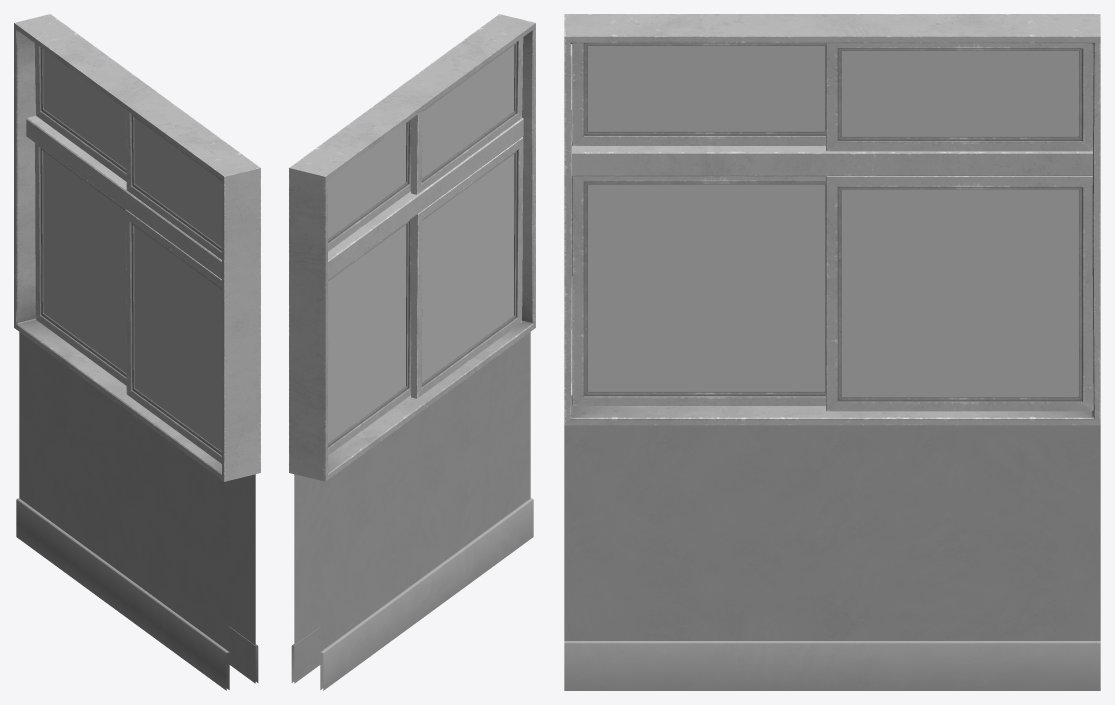
Rendered from SM_Partition_02_Solid.fbx.
3 views of the same model, side by side, from view 1: azimuth 30°, elevation 25°; view 2: azimuth 150°, elevation 25°; view 3: azimuth 270°, elevation 25° (orthographic). The views are drawn at different scales.
Parts seen in each view (by area): view 1: SM_Partition_02_Solid_LOD0; view 2: SM_Partition_02_Solid_LOD0; view 3: SM_Partition_02_Solid_LOD0.
Boxes of the visible parts, x1,y1,x2,y2 form: SM_Partition_02_Solid_LOD0: (14, 14, 260, 690); SM_Partition_02_Solid_LOD0: (289, 14, 535, 690); SM_Partition_02_Solid_LOD0: (564, 14, 1100, 690).
Size of the model in its own units: 20 by 200 by 270.
Materials: 4 (3 with a texture image).
